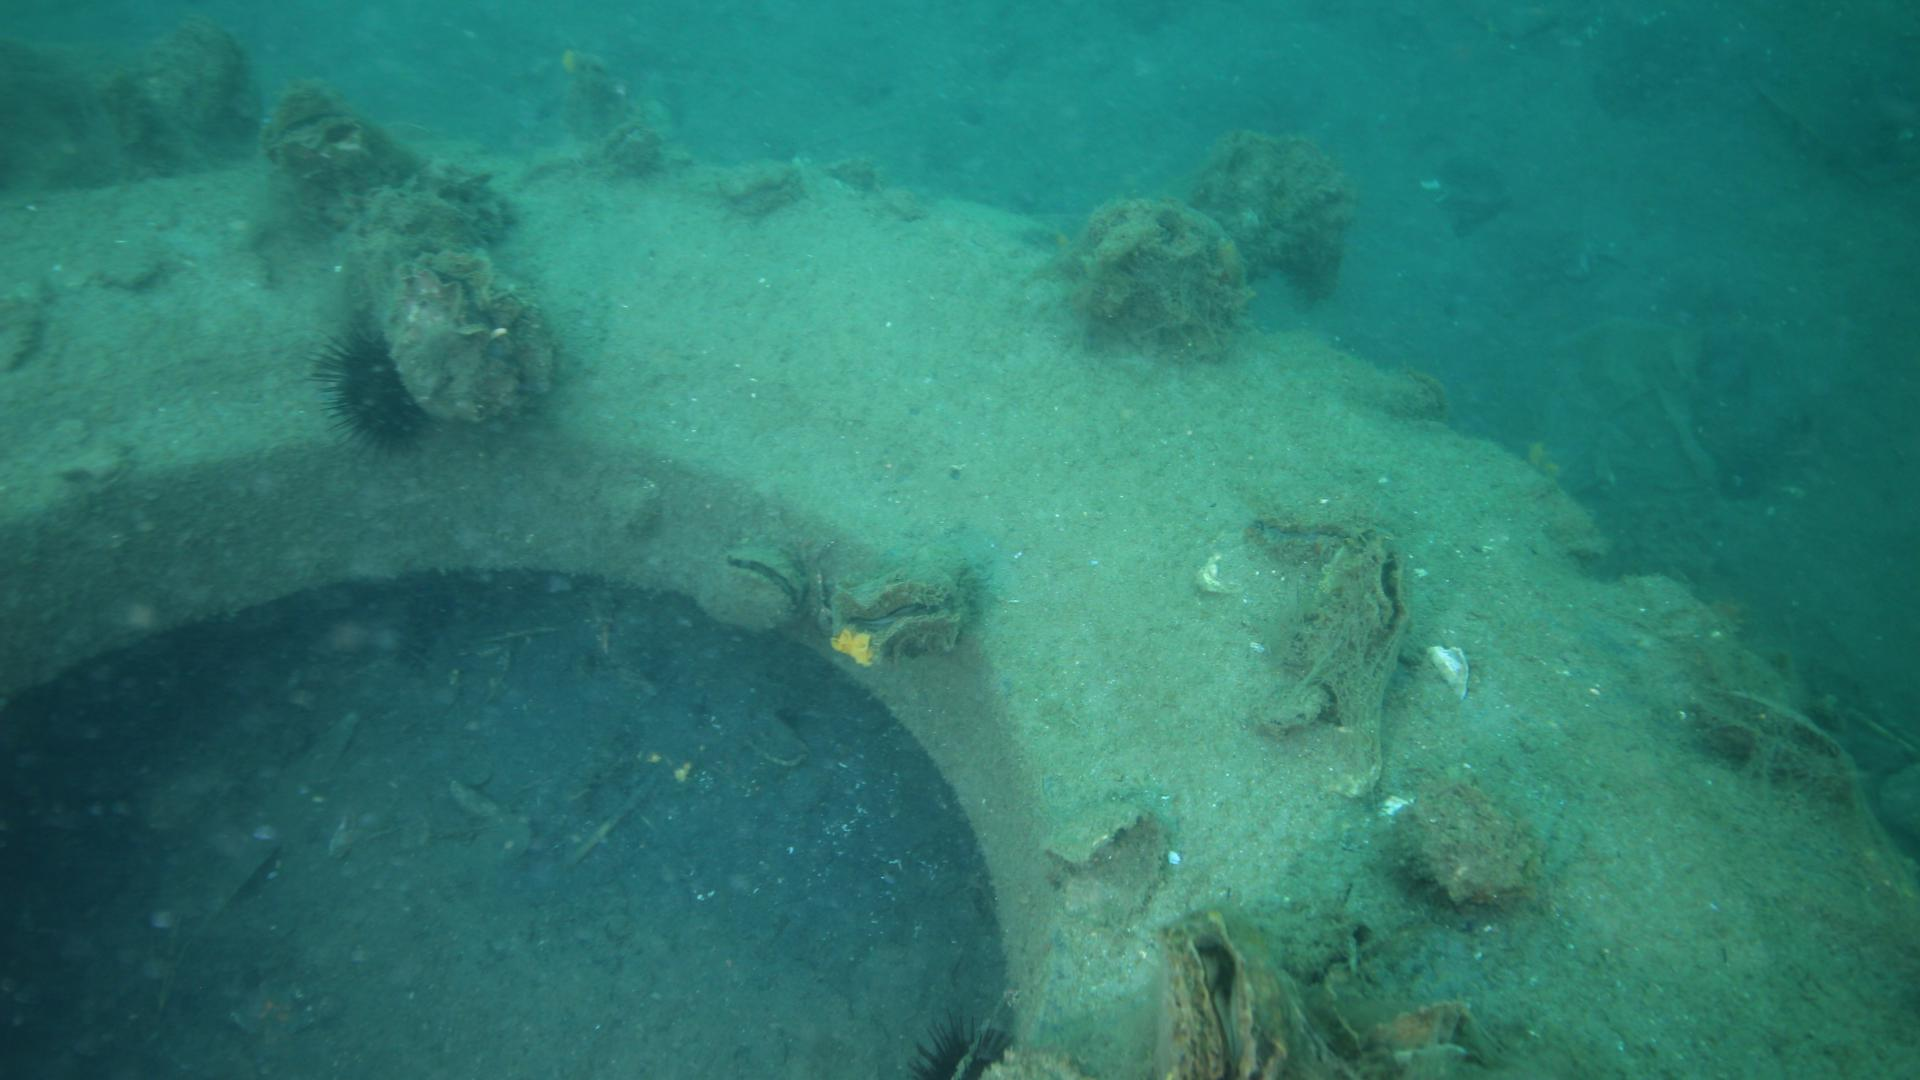tire: (0, 136, 1920, 1080)
